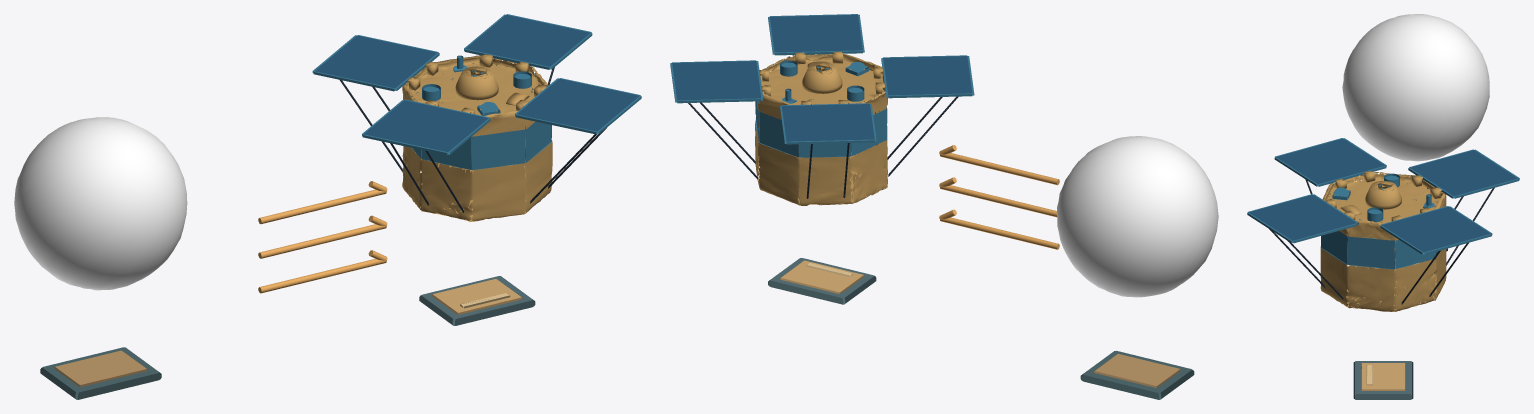
The model's file is kepler-equilibrio.obj.
3 views of the same model, side by side, from view 1: azimuth 30°, elevation 25°; view 2: azimuth 150°, elevation 25°; view 3: azimuth 270°, elevation 25° (orthographic). The views are drawn at different scales.
Visible parts, largest first — view 1: kepler-equilibrio; view 2: kepler-equilibrio; view 3: kepler-equilibrio.
Boxes of the visible parts, <box> form: kepler-equilibrio: <box>14,14,641,399</box>; kepler-equilibrio: <box>670,14,1218,399</box>; kepler-equilibrio: <box>1247,14,1519,399</box>.
Size of the model in its own units: 1.55 by 0.6562 by 0.7552.
